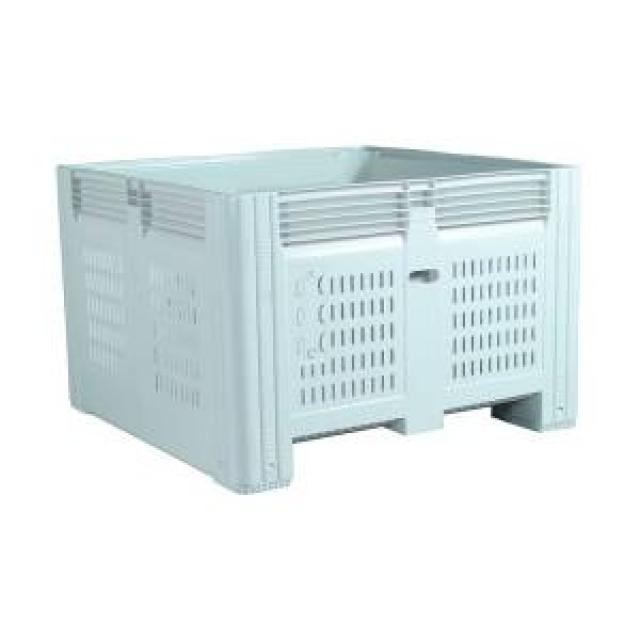basket: (57, 140, 585, 498)
